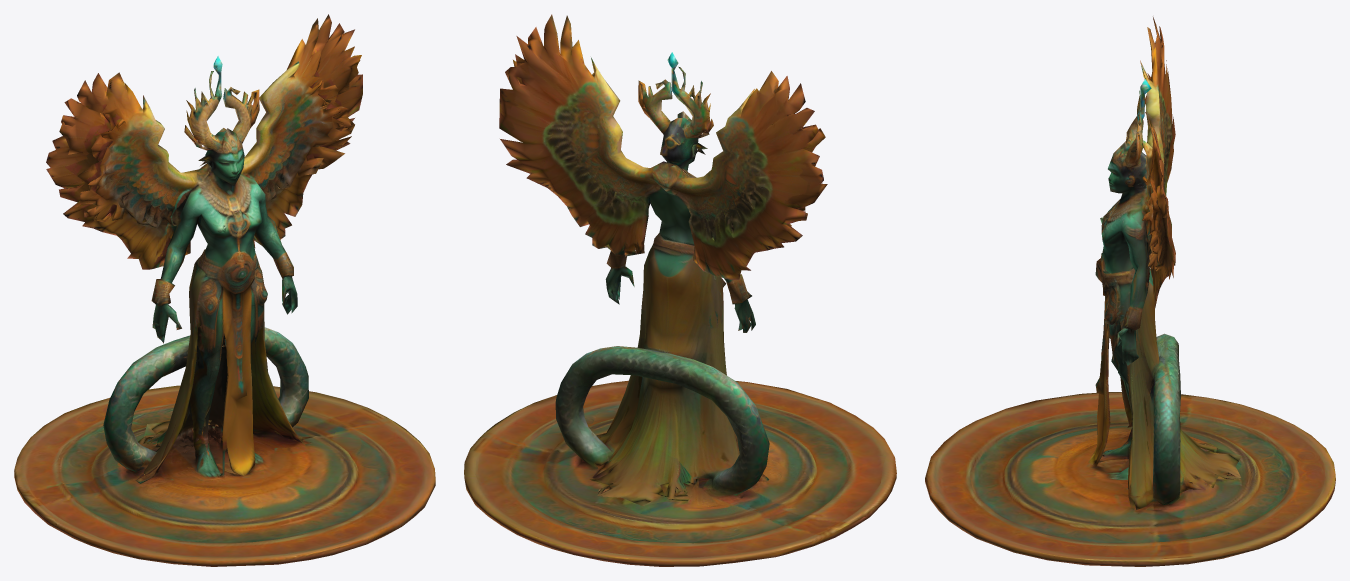
File: quetzalcoatl.glb
3 views of the same model, side by side, from view 1: azimuth 30°, elevation 25°; view 2: azimuth 150°, elevation 25°; view 3: azimuth 270°, elevation 25° (orthographic). The views are drawn at different scales.
Size of the model in its own units: 1.75 by 1.99 by 1.79.
Materials: 1 (1 with a texture image).
